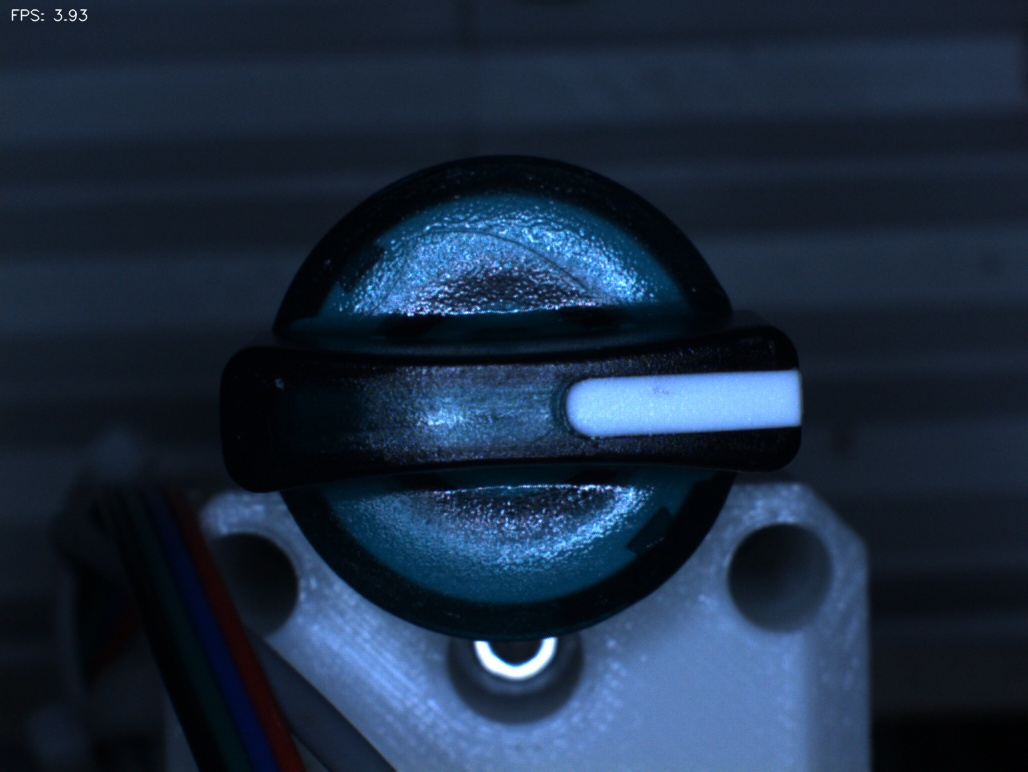PointNoir: (638, 364, 694, 425)
